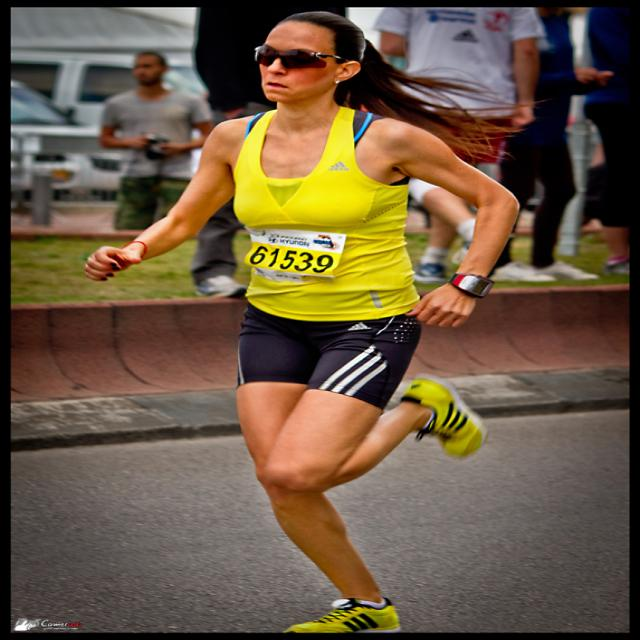Bib: (245, 245, 337, 278)
